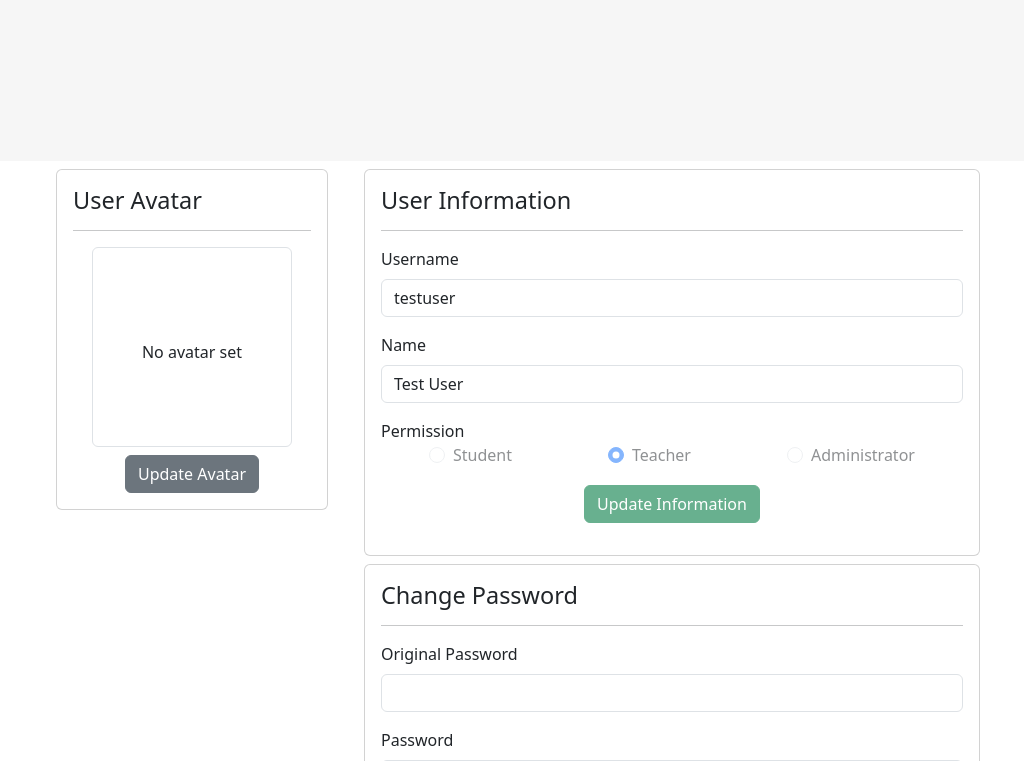
UserProfile Component › handles empty name on update
The image size is (1024, 761).
(page scrolled)
Clear the field labelled "Name": (672, 384) [381, 365, 963, 403]
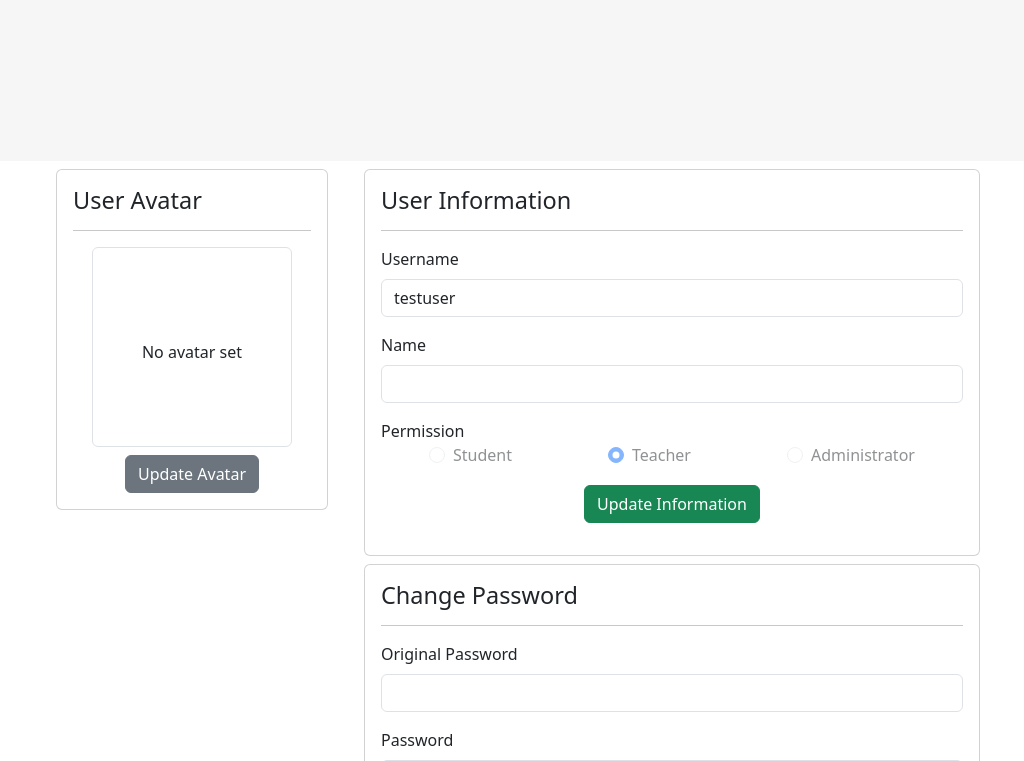
Click the button "Update Information": click(672, 504) [584, 485, 760, 523]
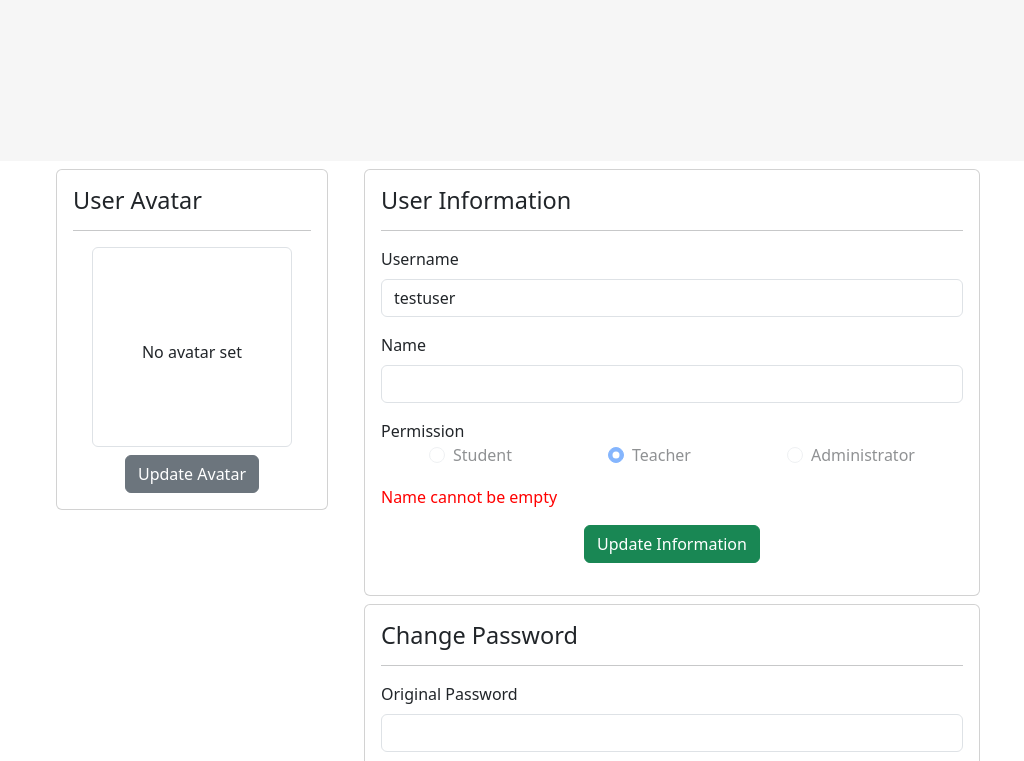
Expected: the text "Name cannot be empty" is shown, [381, 486, 557, 508]
